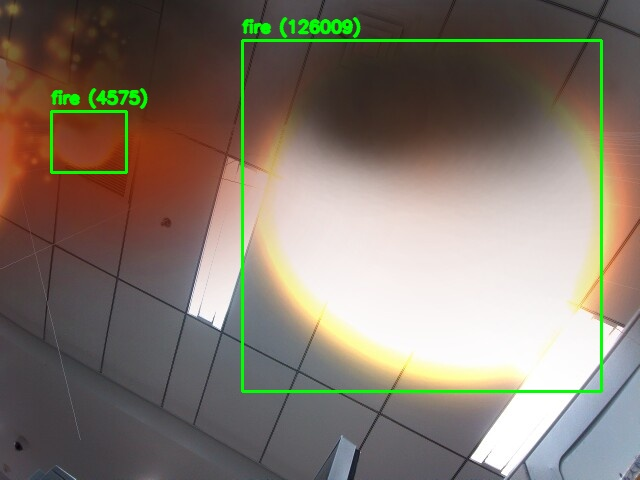fire: (242, 40, 601, 391), (51, 111, 126, 172)
